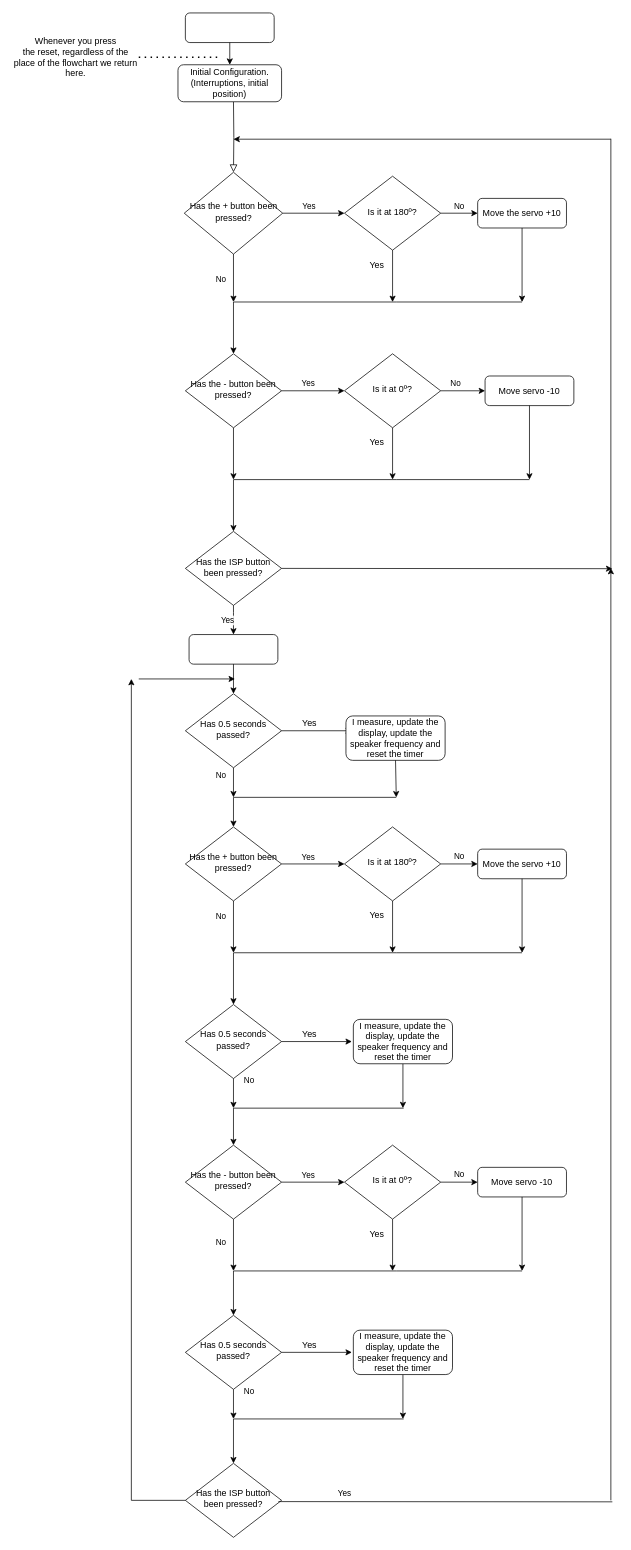
Some shapes in this 631 by 1550 pixel diagram are drawn without their labels. Each missing label, with the box of its shape:
Start / Reset: (185, 12, 274, 43)
Start the timer: (188, 634, 278, 664)
